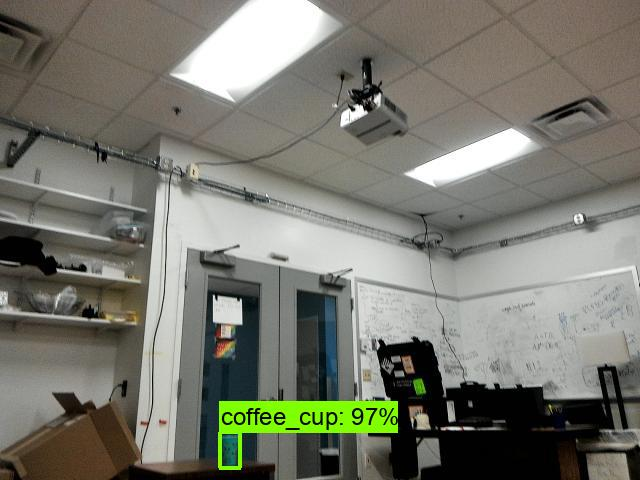coffee_cup: (221, 434, 240, 467)
